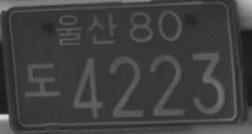0: (158, 9, 182, 43)
2: (108, 54, 144, 119), (149, 53, 185, 116)
3: (191, 50, 225, 115)
4: (73, 57, 103, 119)
8: (128, 10, 154, 43)
도: (25, 62, 62, 98)
울산_O: (56, 11, 119, 47)
